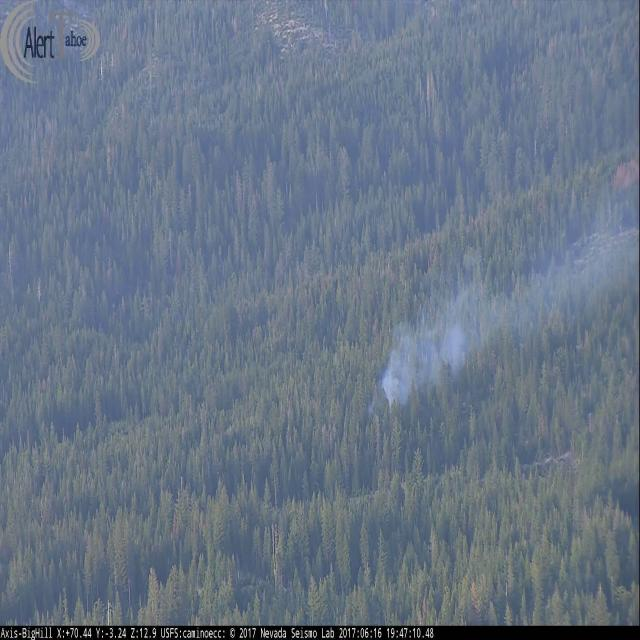smoke: (365, 178, 640, 419)
